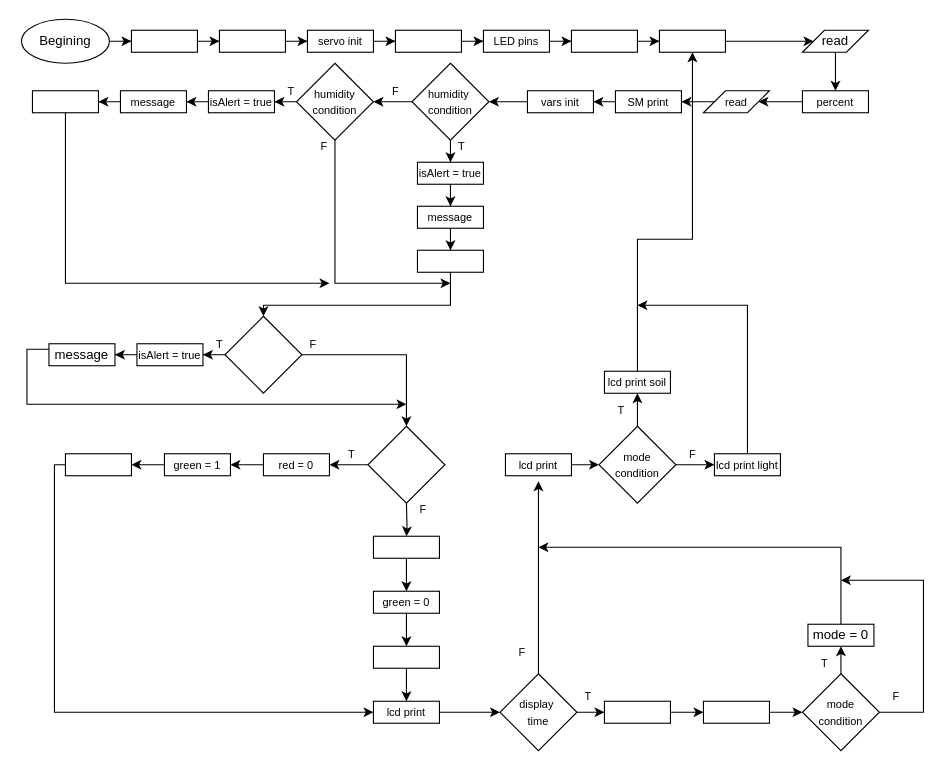
This 952x770 diagram has some shape labels left out. Here are the shapes that lost their labels. From the top down, the centre of each, then its label:
At point 163,40: "LCD init".
At point 251,40: "SM init".
At point 427,40: "servo pos".
At point 603,40: "buzzer pins".
At point 691,40: "loop".
At point 64,101: "servo close".
At point 449,260: "servo rotate".
At point 263,354: "light condition".
At point 97,464: "buzz = 0".
At point 406,464: "isAlert".
At point 405,546: "red = 1".
At point 405,656: "buzz = 1".
At point 636,711: "LS = now".
At point 735,711: "mode + 1".
